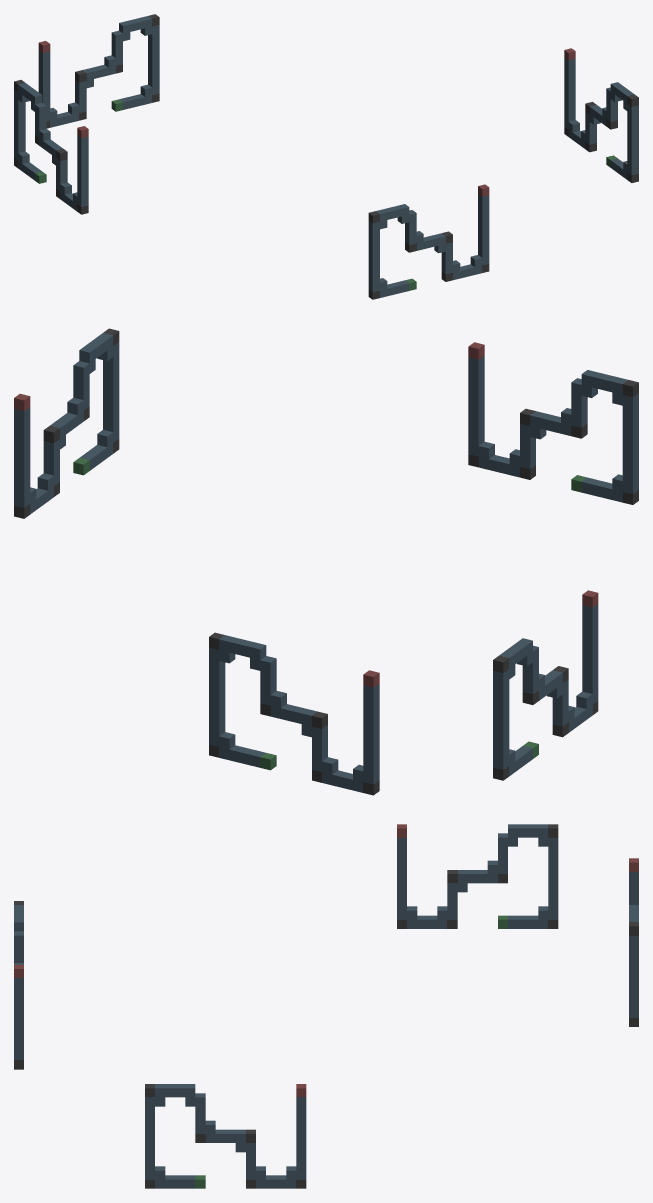
File: pattern_9.glb
3 views of the same model, one above another, from view 1: azimuth 30°, elevation 25°; view 2: azimuth 150°, elevation 25°; view 3: azimuth 270°, elevation 25° (orthographic). The views are drawn at different scales.
Parts seen in each view (by area): view 1: crate_pattern_9; view 2: crate_pattern_9; view 3: crate_pattern_9.
Boxes of the visible parts, box(x1,y1,x2,y2) form: crate_pattern_9: box(14, 14, 638, 299); crate_pattern_9: box(14, 328, 638, 795); crate_pattern_9: box(14, 824, 638, 1188).
Size of the model in its own units: 6.2 by 1.1 by 6.2.
Materials: 1 (1 with a texture image).
